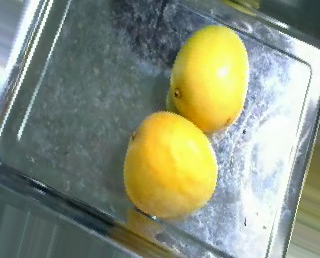Mango: (118, 108, 224, 225), (170, 20, 249, 134)
